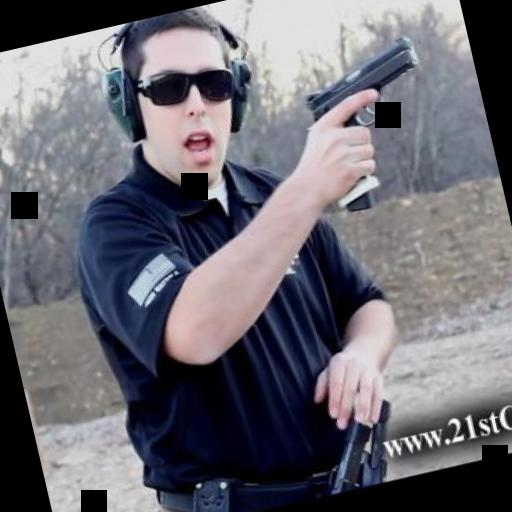Handgun: (292, 32, 450, 216)
